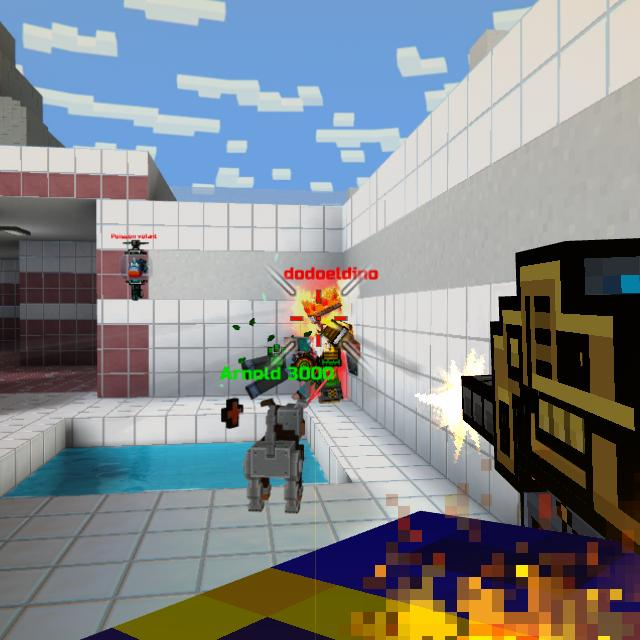Enemy: (301, 293, 358, 404)
